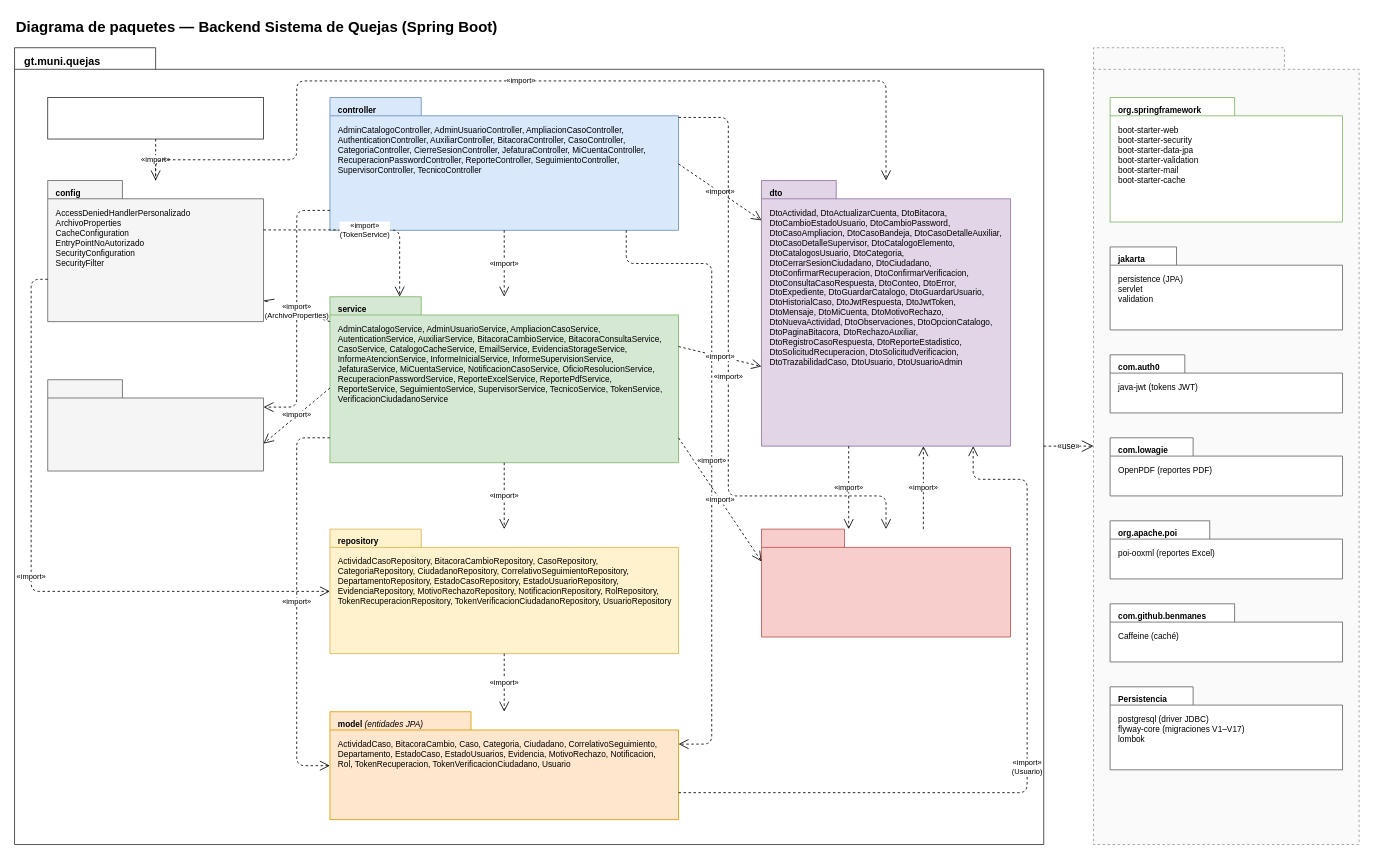
The diagram is 1374 pixels wide and 859 high, and some of its shapes have lost their labels. Each missing label, with the box of its shape:
Dependencias externas (Maven): (1093, 47, 1359, 845)
exception CodigoError DetalleError ManejadorGlobalExcepciones NegocioException: (761, 528, 1011, 637)
QuejasApplication @SpringBootApplication: (47, 97, 264, 139)
util ClienteHttp PasswordRn08 TipoCaso: (47, 379, 264, 471)
